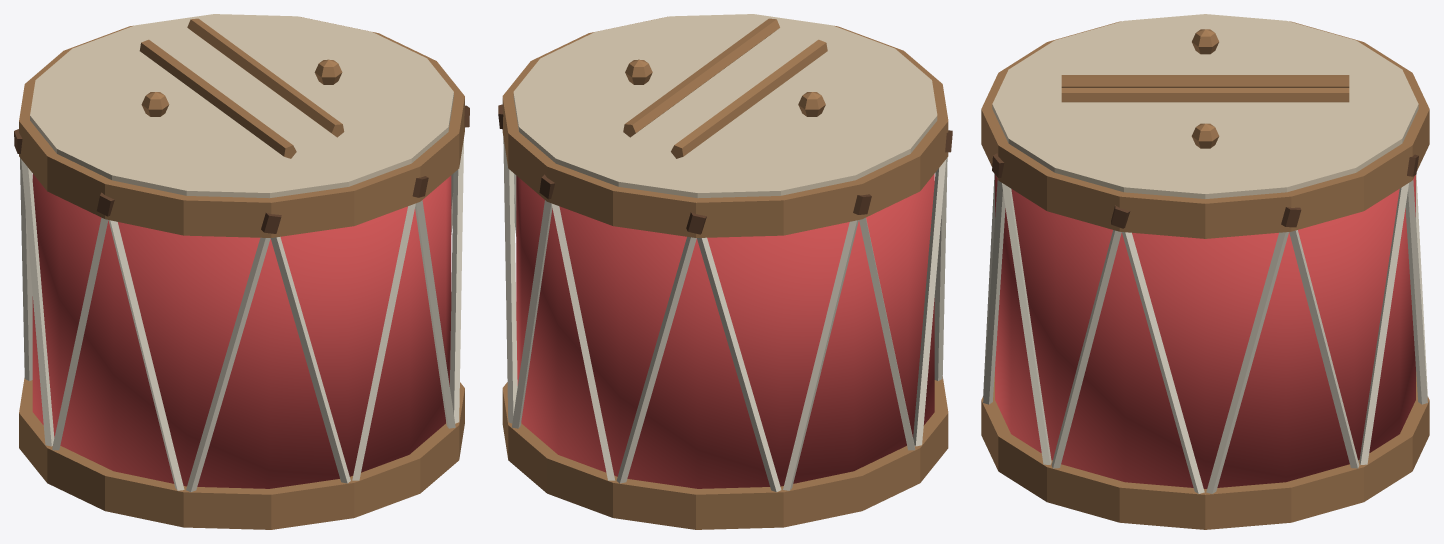
The model's file is tambor.glb.
3 views of the same model, side by side, from view 1: azimuth 30°, elevation 25°; view 2: azimuth 150°, elevation 25°; view 3: azimuth 270°, elevation 25° (orthographic).
Visible parts, largest first — view 1: tambor; view 2: tambor; view 3: tambor.
Boxes of the visible parts, left/top/right/bottom form: tambor: left=14, top=14, right=469, bottom=529; tambor: left=498, top=14, right=952, bottom=529; tambor: left=981, top=14, right=1429, bottom=529.
Bounding box in the file's own units: 0.81 × 0.725 × 0.81.
